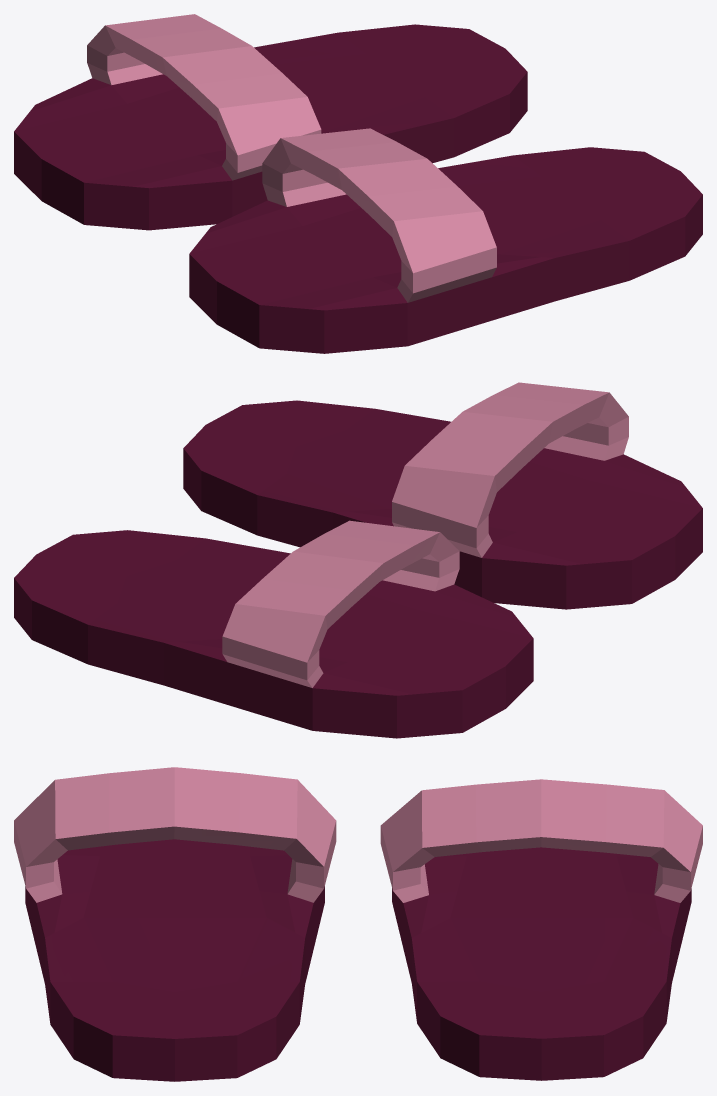
Rendered from slipper_2_partyassets.fbx.
3 views of the same model, one above another, from view 1: azimuth 30°, elevation 25°; view 2: azimuth 150°, elevation 25°; view 3: azimuth 270°, elevation 25° (orthographic). The views are drawn at different scales.
Parts seen in each view (by area): view 1: slipper_2_partyassets, slipper_2_partyassets.001; view 2: slipper_2_partyassets, slipper_2_partyassets.001; view 3: slipper_2_partyassets, slipper_2_partyassets.001.
Part boxes in pixels (left/top/right/bottom): slipper_2_partyassets: left=14, top=24, right=702, bottom=353; slipper_2_partyassets.001: left=87, top=14, right=496, bottom=302; slipper_2_partyassets: left=14, top=400, right=702, bottom=738; slipper_2_partyassets.001: left=222, top=382, right=628, bottom=687; slipper_2_partyassets: left=25, top=839, right=691, bottom=1081; slipper_2_partyassets.001: left=14, top=767, right=702, bottom=902.
Bounding box in the file's own units: 23.34 × 6.08 × 27.81.
